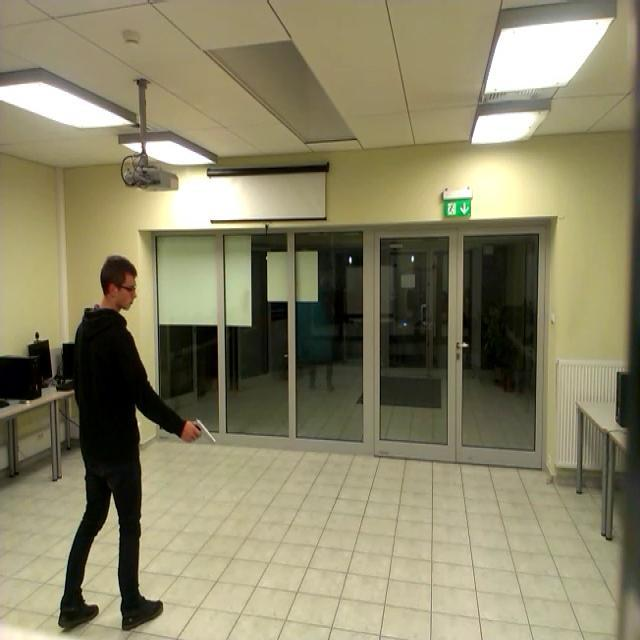Gun: (184, 411, 222, 453)
